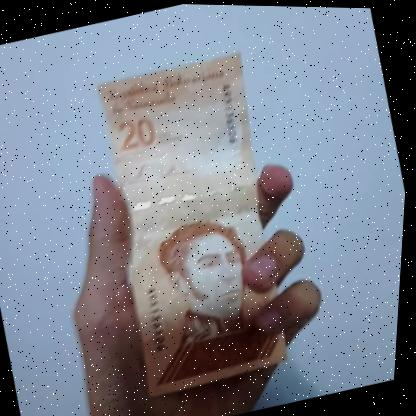twenty-front-vef: (76, 48, 314, 400)
